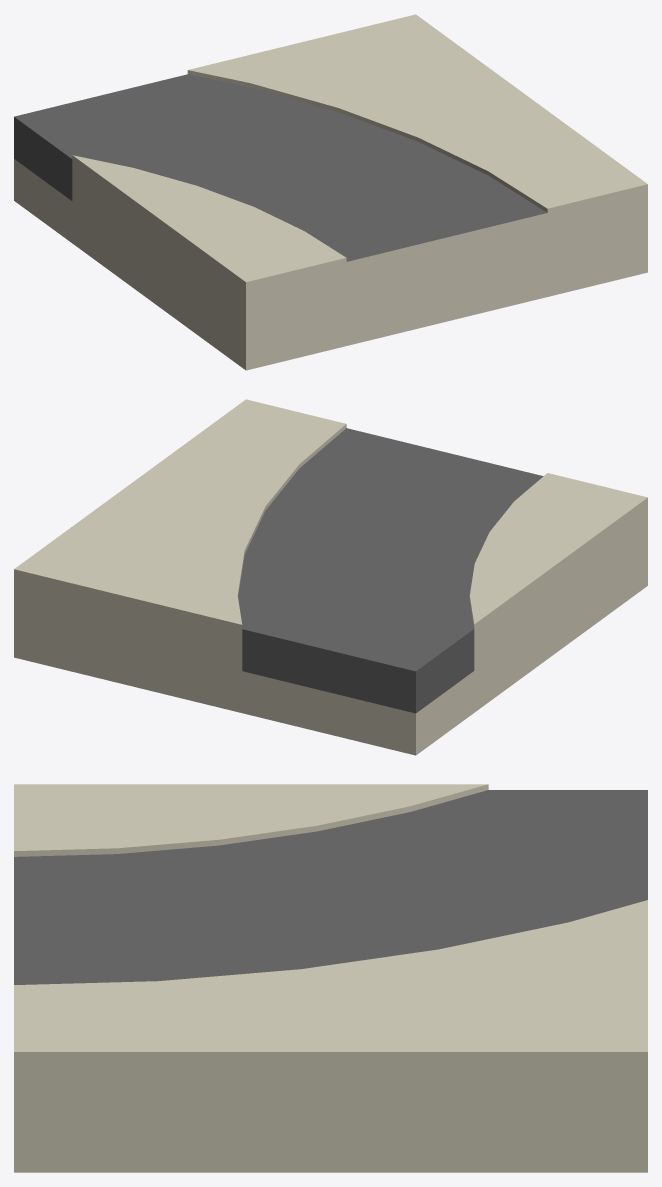
The model's file is tile009.fbx.
3 renders of one model, top to bottom at view 1: azimuth 30°, elevation 25°; view 2: azimuth 150°, elevation 25°; view 3: azimuth 270°, elevation 25°, orthographic. The views are drawn at different scales.
Parts seen in each view (by area): view 1: tile009; view 2: tile009; view 3: tile009.
Boxes of the visible parts, box(x1,y1,x2,y2) form: tile009: box(14, 14, 647, 370); tile009: box(14, 399, 647, 755); tile009: box(14, 784, 647, 1172).
Bounding box in the file's own units: 10 × 2.1 × 10.
